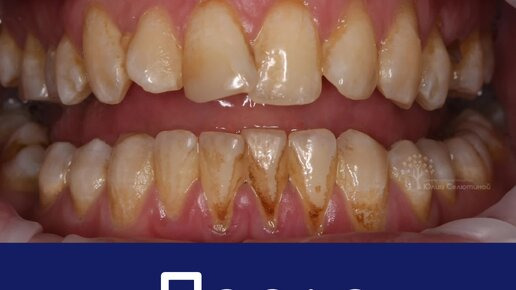LL1BC_healthy: (390, 134, 432, 220)
LL2BC_healthy: (432, 132, 458, 220)
LLCI_decay: (247, 125, 292, 227)
LLC_decay: (337, 124, 391, 241)
LLLI_decay: (290, 124, 337, 229)
LR1BC_decay: (71, 132, 109, 216)
LR2BC_decay: (46, 132, 71, 216)
LRCI_decay: (199, 132, 245, 230)
LRC_decay: (109, 132, 159, 223)
LRLI_decay: (159, 126, 198, 223)
UL1BC_decay: (418, 32, 447, 115)
ULCI_healthy: (255, 4, 321, 107)
ULC_healthy: (377, 15, 418, 111)
ULLI_decay: (324, 8, 376, 104)
UR1BC_decay: (58, 35, 89, 108)
URCI_decay: (180, 6, 256, 106)
URC_decay: (79, 8, 125, 105)
URLI_healthy: (125, 9, 180, 97)
